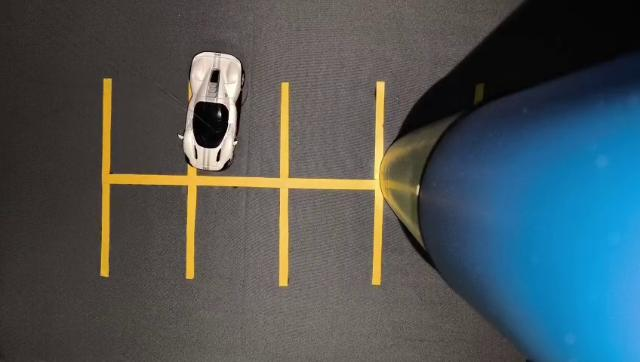toy_car: (161, 31, 270, 185)
